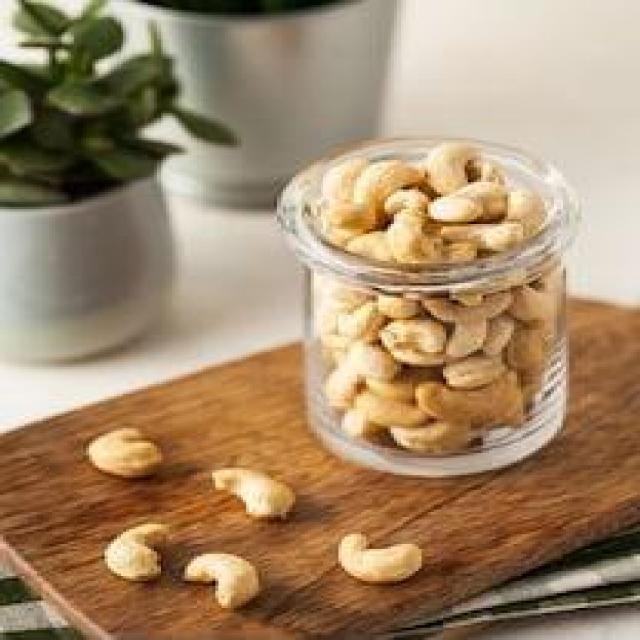Cashew: (183, 532, 298, 614), (62, 421, 175, 495), (343, 527, 451, 595), (75, 516, 181, 583), (199, 450, 314, 510), (330, 152, 421, 222), (422, 119, 486, 186), (430, 175, 516, 217)
